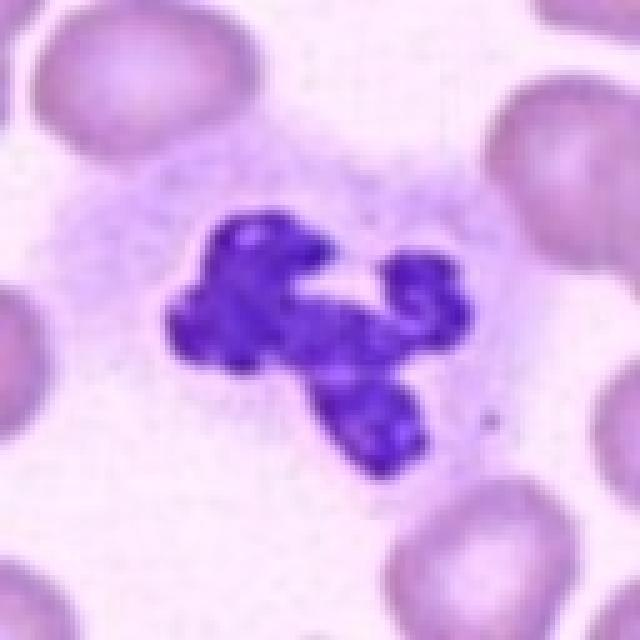neutro: (50, 115, 558, 550)
